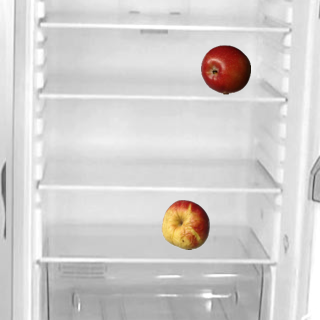Apple Braeburn: (200, 44, 250, 94)
Apple Red Yellow 1: (160, 199, 210, 249)
